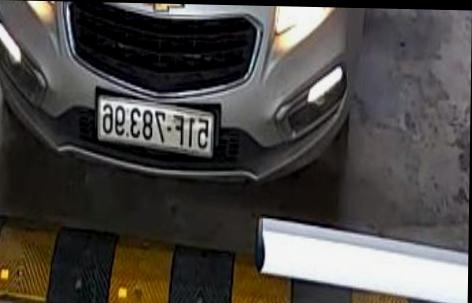License_Plate: (96, 96, 213, 164)
